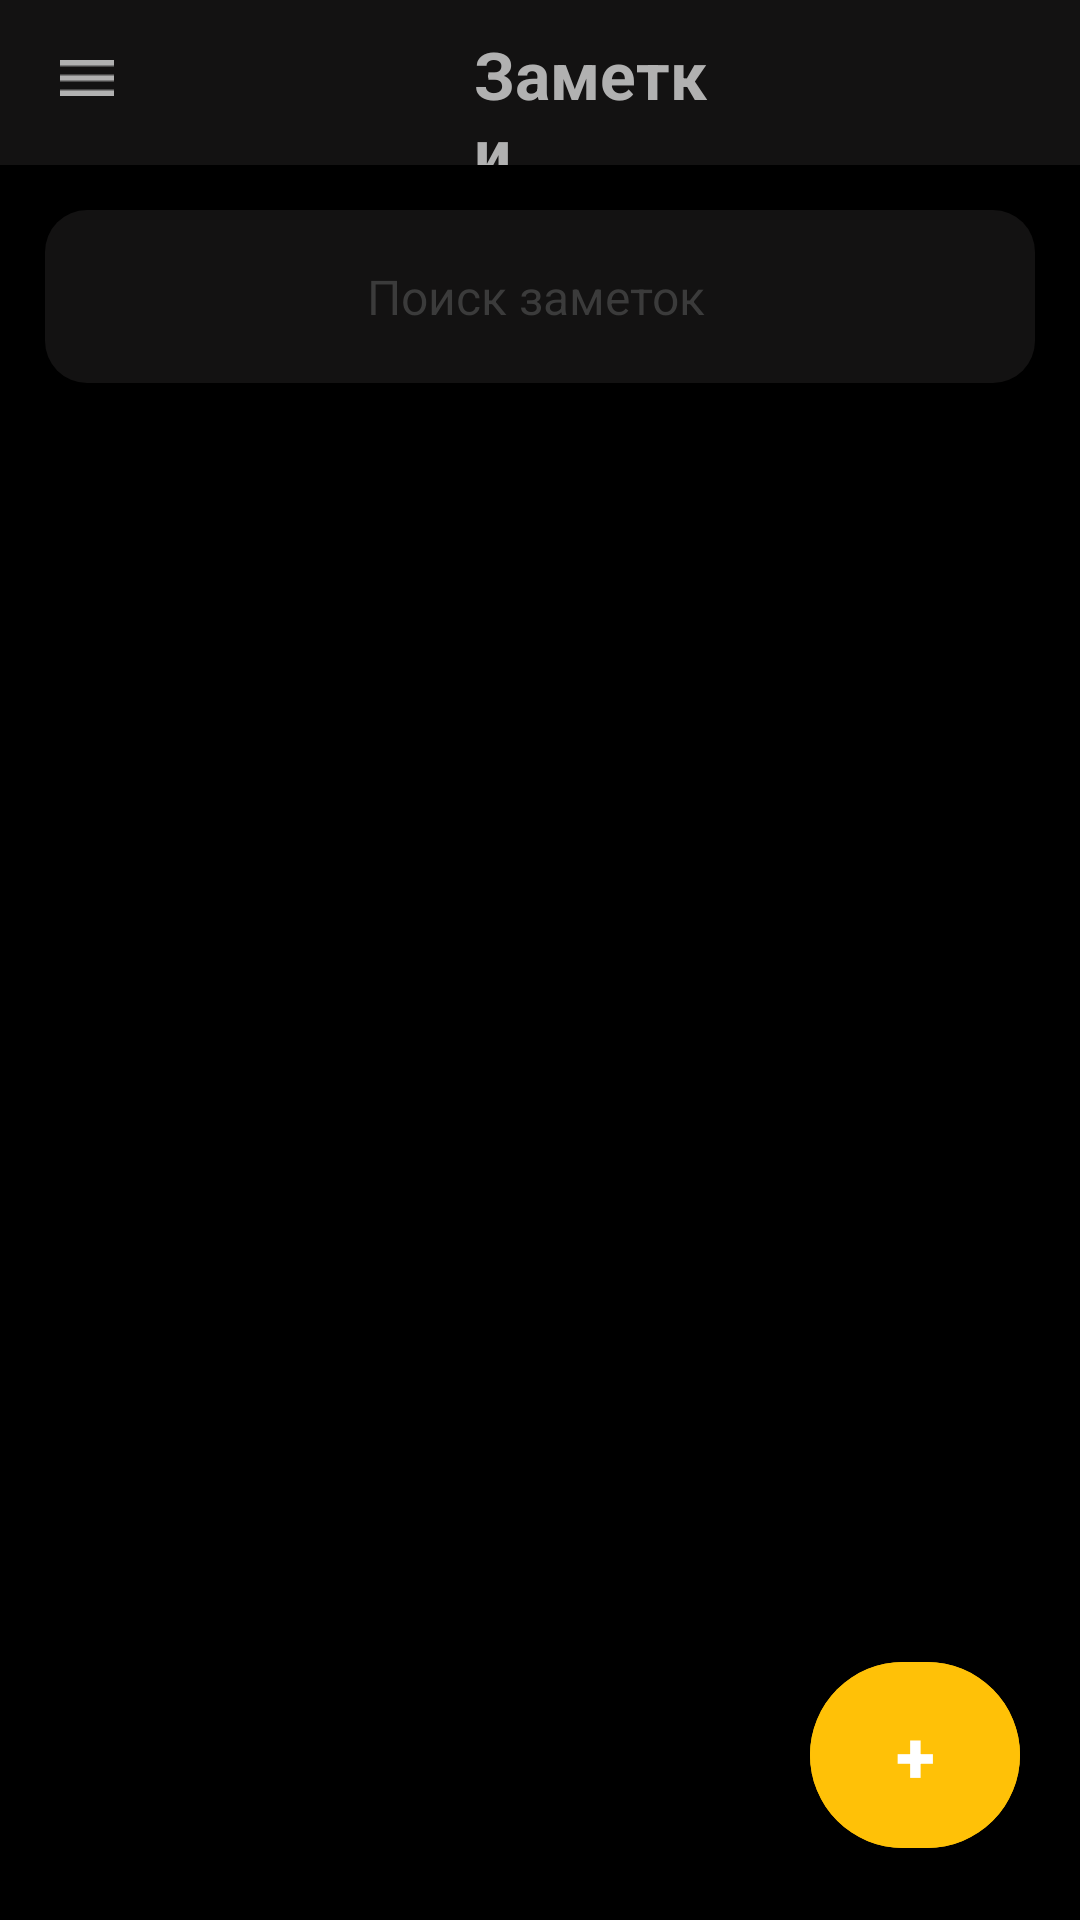

Point at icon controls on the screen. Image size 1080 × 1920, points as (x,y).
menu: (87,78)
